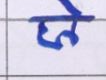e_matra: (58, 0, 85, 13)
